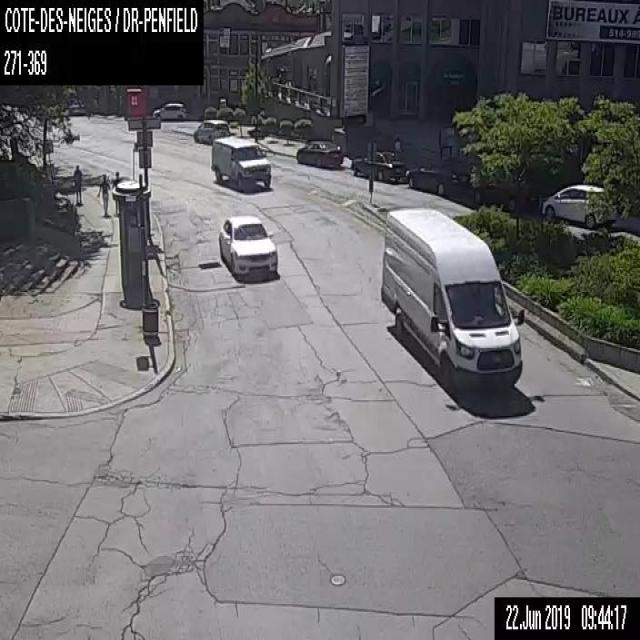pedestrian: (96, 172, 110, 218), (110, 170, 122, 213), (71, 163, 82, 204)
vehicle: (380, 204, 525, 389), (218, 213, 276, 279), (210, 134, 272, 191), (542, 181, 609, 228), (470, 170, 538, 214), (407, 158, 469, 193), (350, 149, 405, 179), (296, 137, 342, 168), (193, 117, 230, 144), (152, 98, 188, 121), (68, 98, 86, 114)
